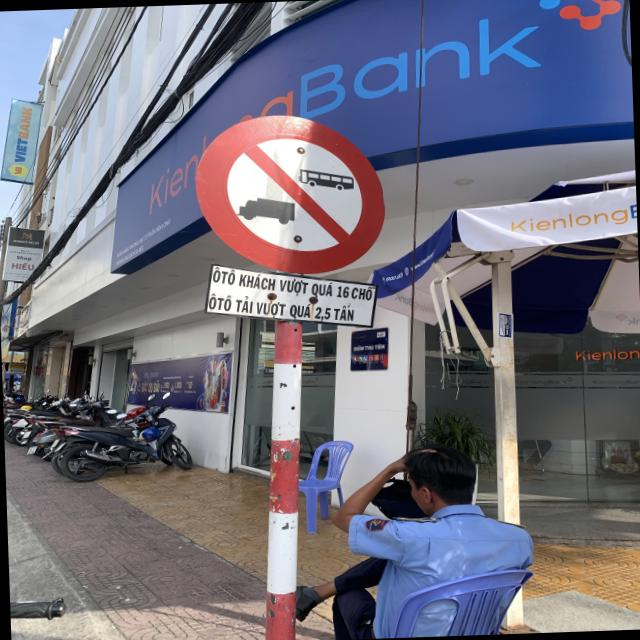Cam_XeTai_XeKhach: (192, 109, 388, 278)
